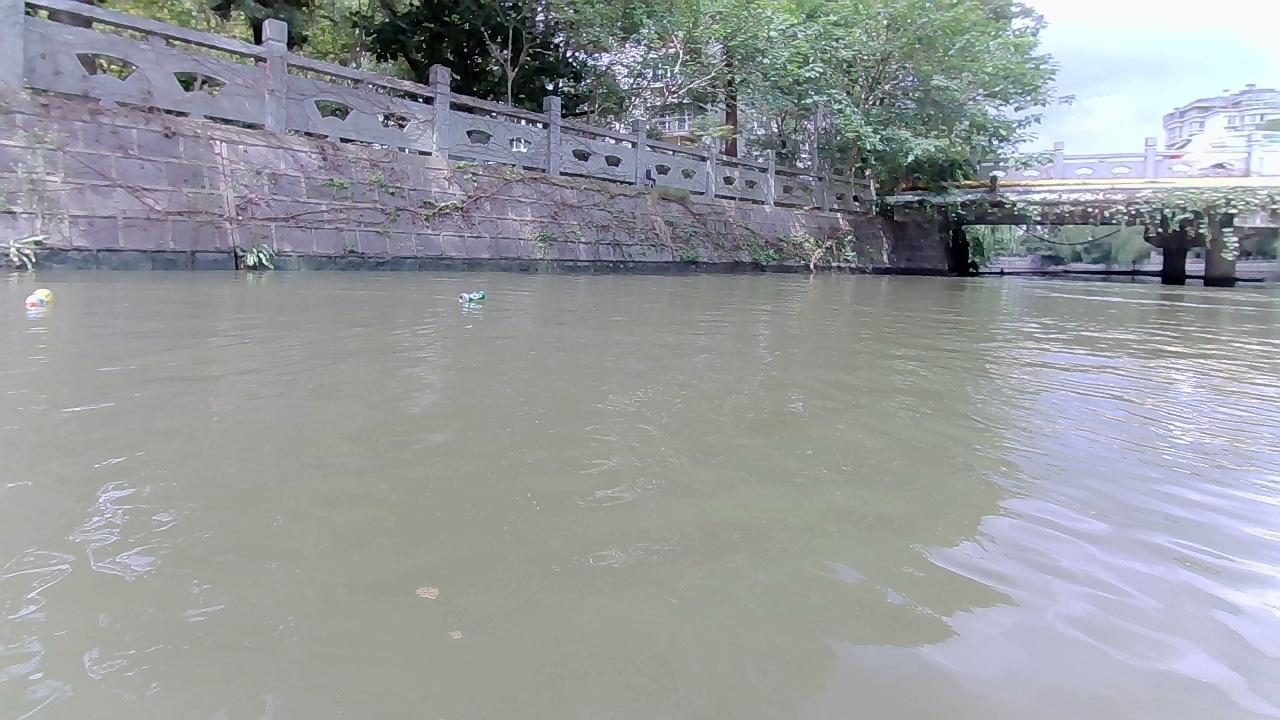bottle: (24, 287, 52, 306), (458, 289, 485, 301)
